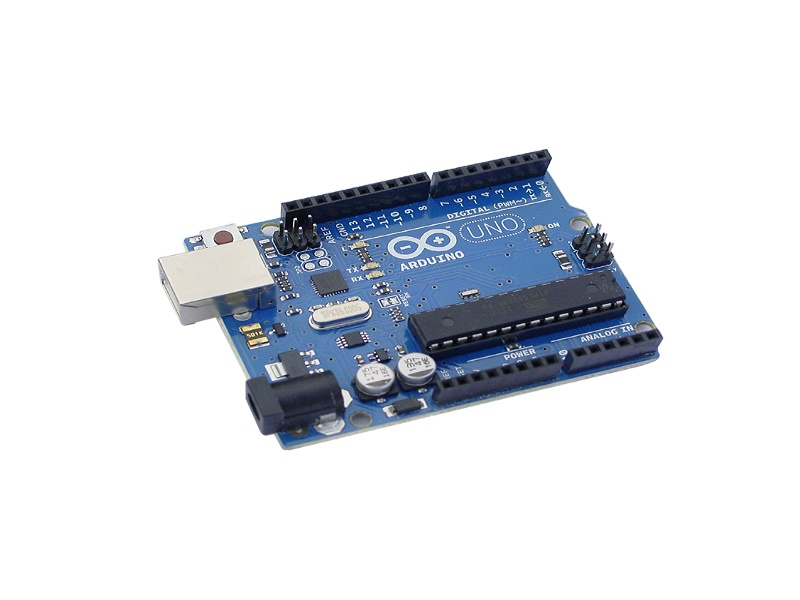uno: (156, 147, 661, 402)
